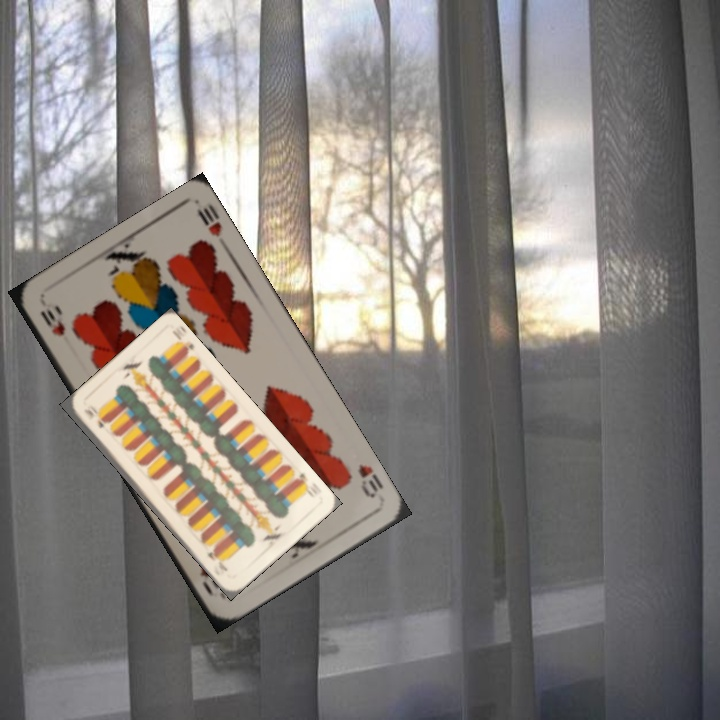E10: (291, 469, 317, 499), (80, 404, 107, 431)
H10: (353, 459, 385, 501), (36, 305, 68, 339)
